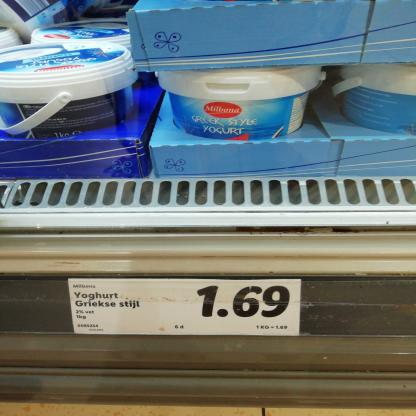prtg: (69, 279, 303, 337)
